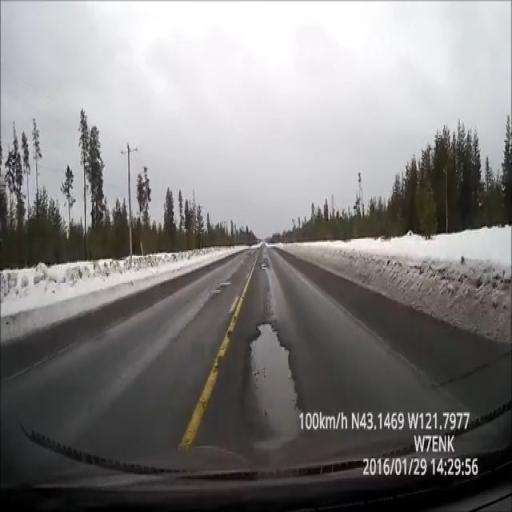Potholes: (248, 323, 298, 448)
